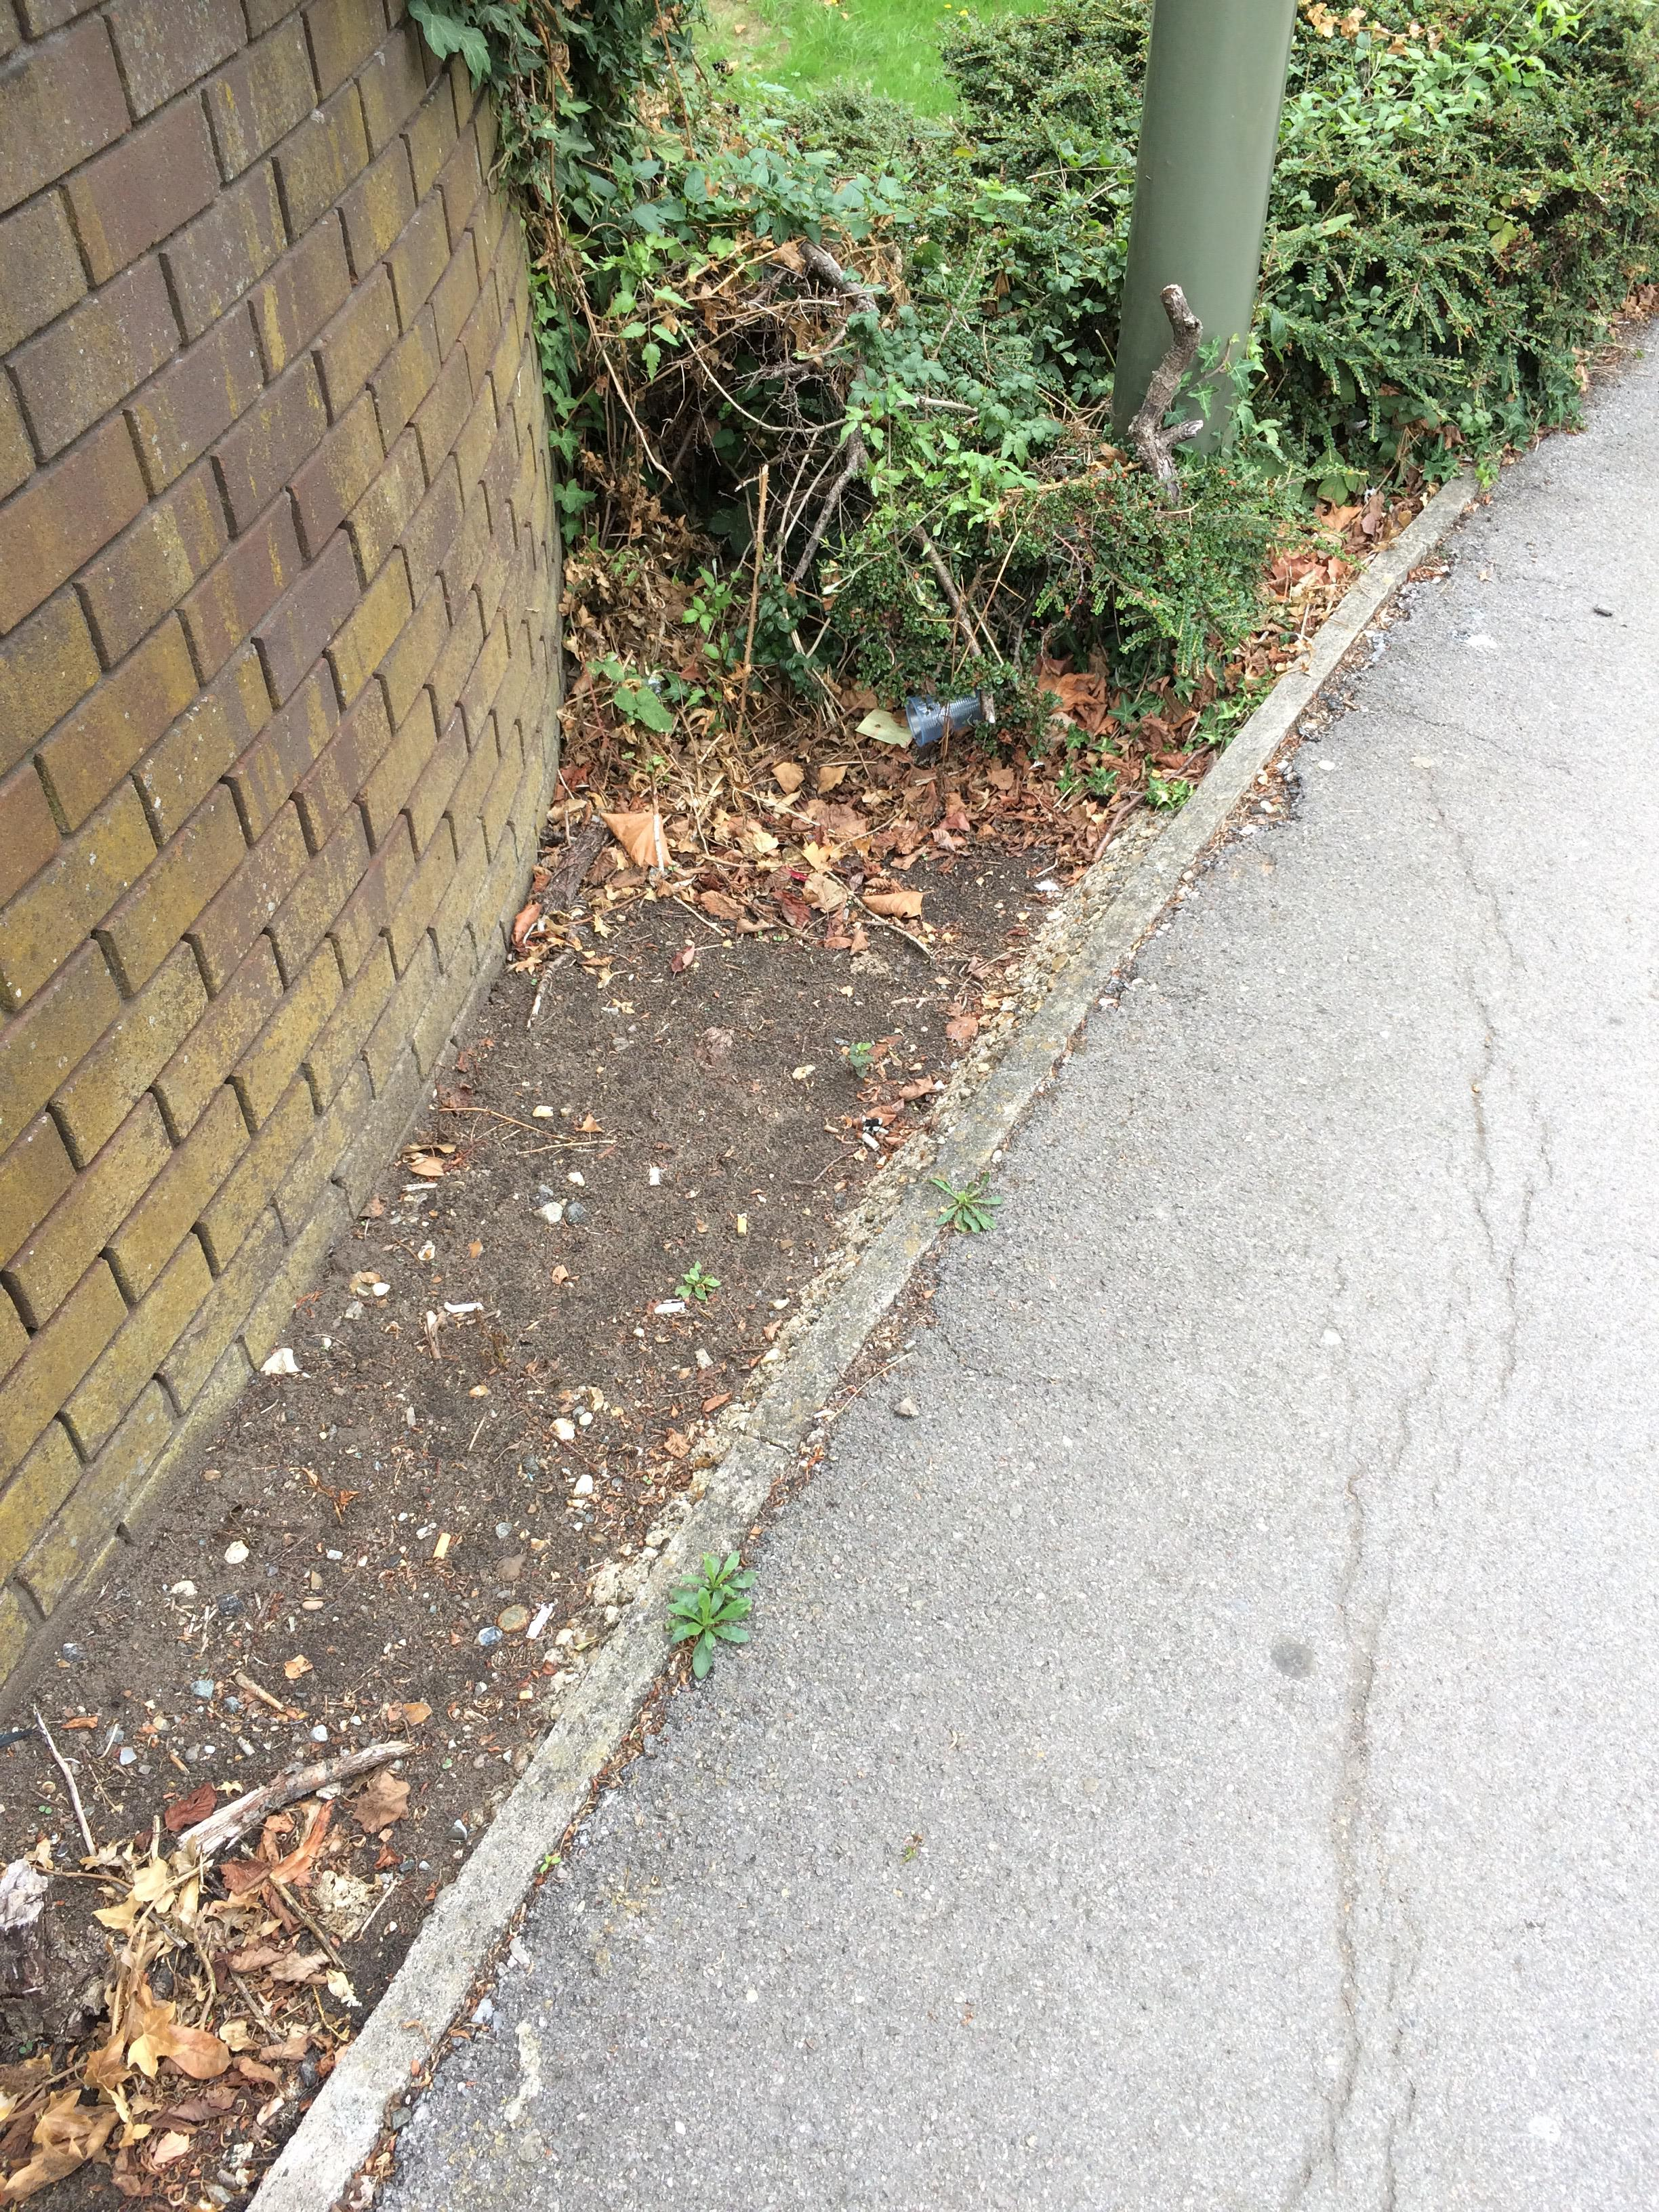Trash: (889, 685, 997, 749)
